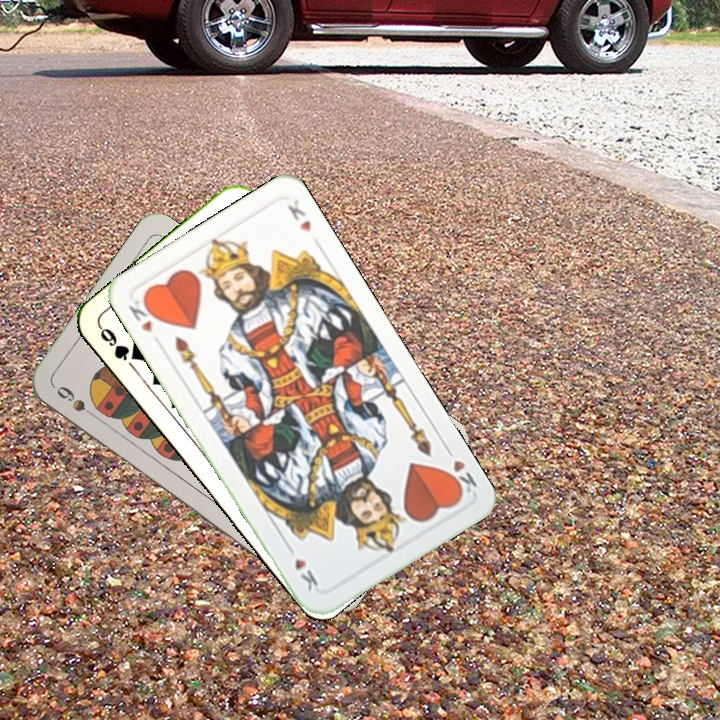G9: (95, 323, 138, 372)
HK: (440, 441, 480, 499), (124, 296, 155, 335)
S9: (52, 381, 103, 423)
